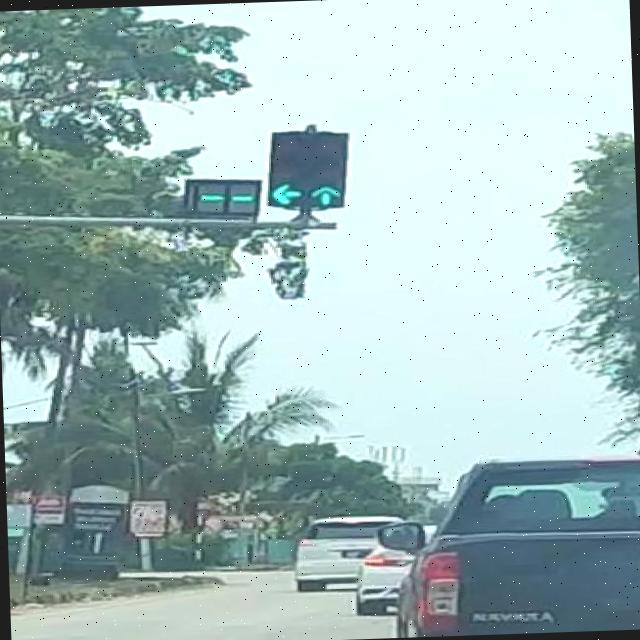green_light: (302, 130, 348, 208), (263, 129, 307, 207)
